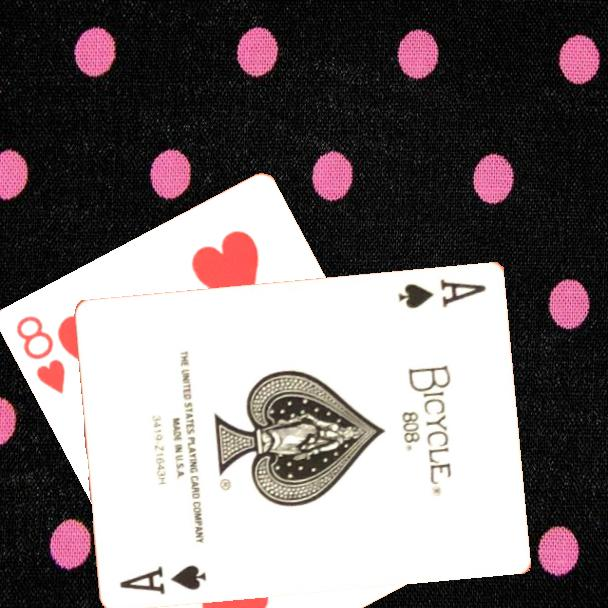h08: (13, 312, 69, 398)
s01: (395, 275, 490, 311), (116, 561, 209, 597)
